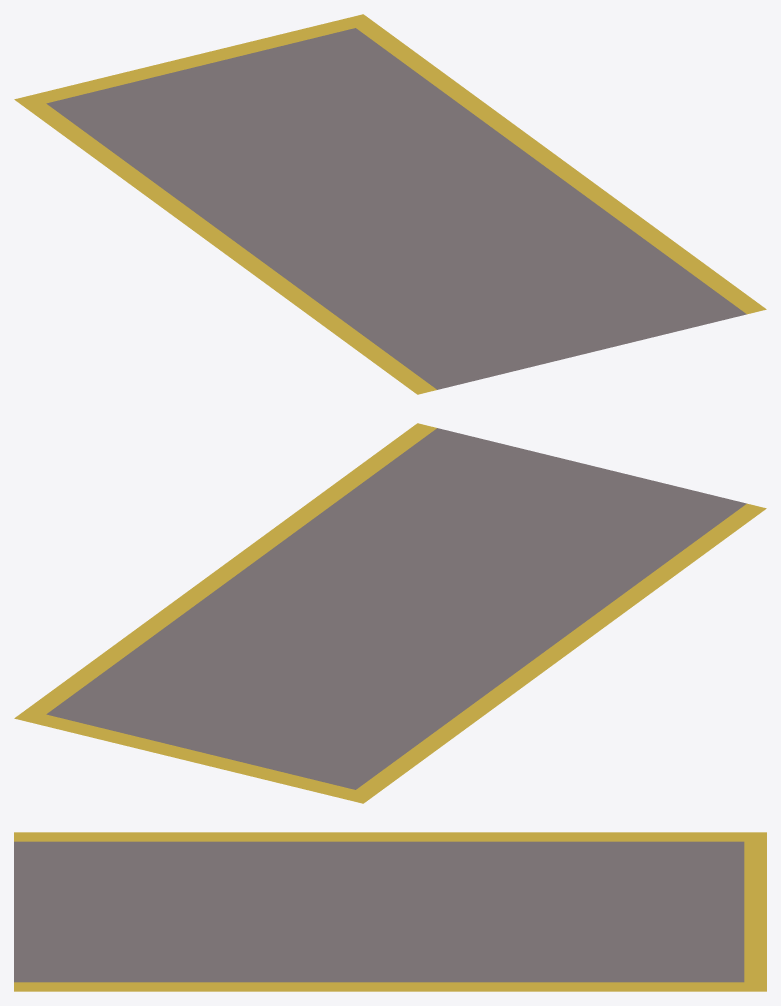
File: parkingSpot.fbx
The picture shows the model from 3 angles, top to bottom: view 1: azimuth 30°, elevation 25°; view 2: azimuth 150°, elevation 25°; view 3: azimuth 270°, elevation 25°; orthographic projection. The views are drawn at different scales.
Visible parts, largest first — view 1: parkingSpot; view 2: parkingSpot; view 3: parkingSpot.
Boxes of the visible parts, x1=… form: parkingSpot: x1=14, y1=14, x2=766, y2=394; parkingSpot: x1=14, y1=423, x2=766, y2=803; parkingSpot: x1=14, y1=832, x2=766, y2=991.
Bounding box in the file's own units: 150 × 3.33e-14 × 300.
